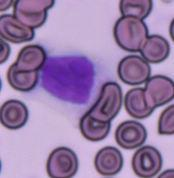M: (34, 49, 115, 116)
